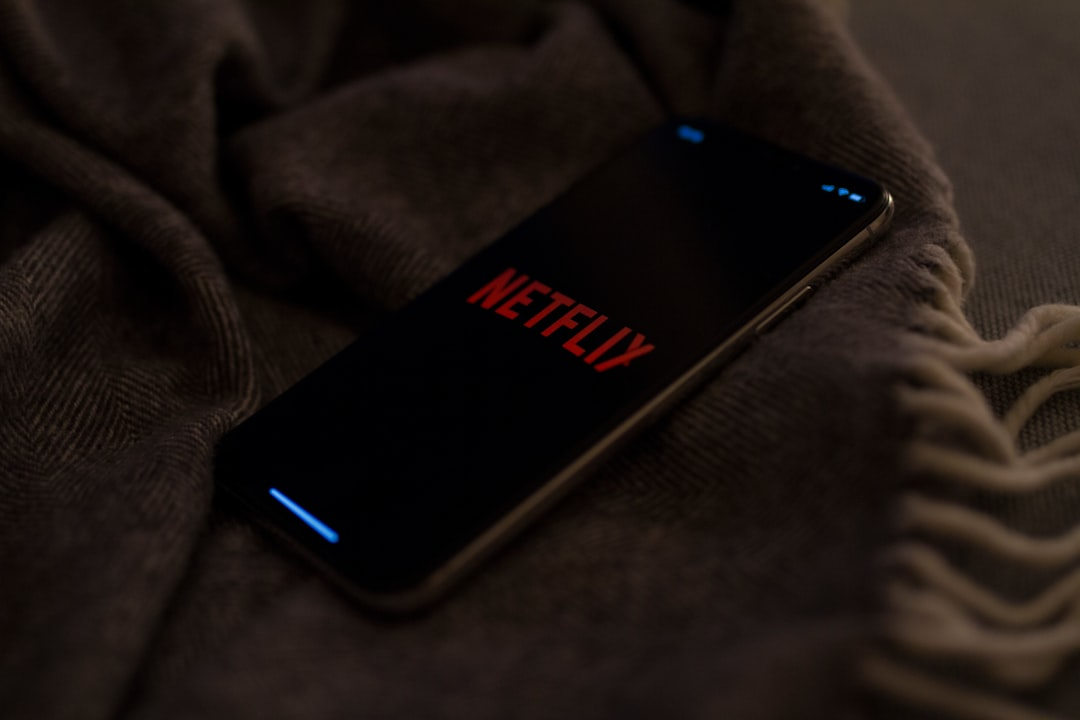phone: (207, 108, 892, 636)
